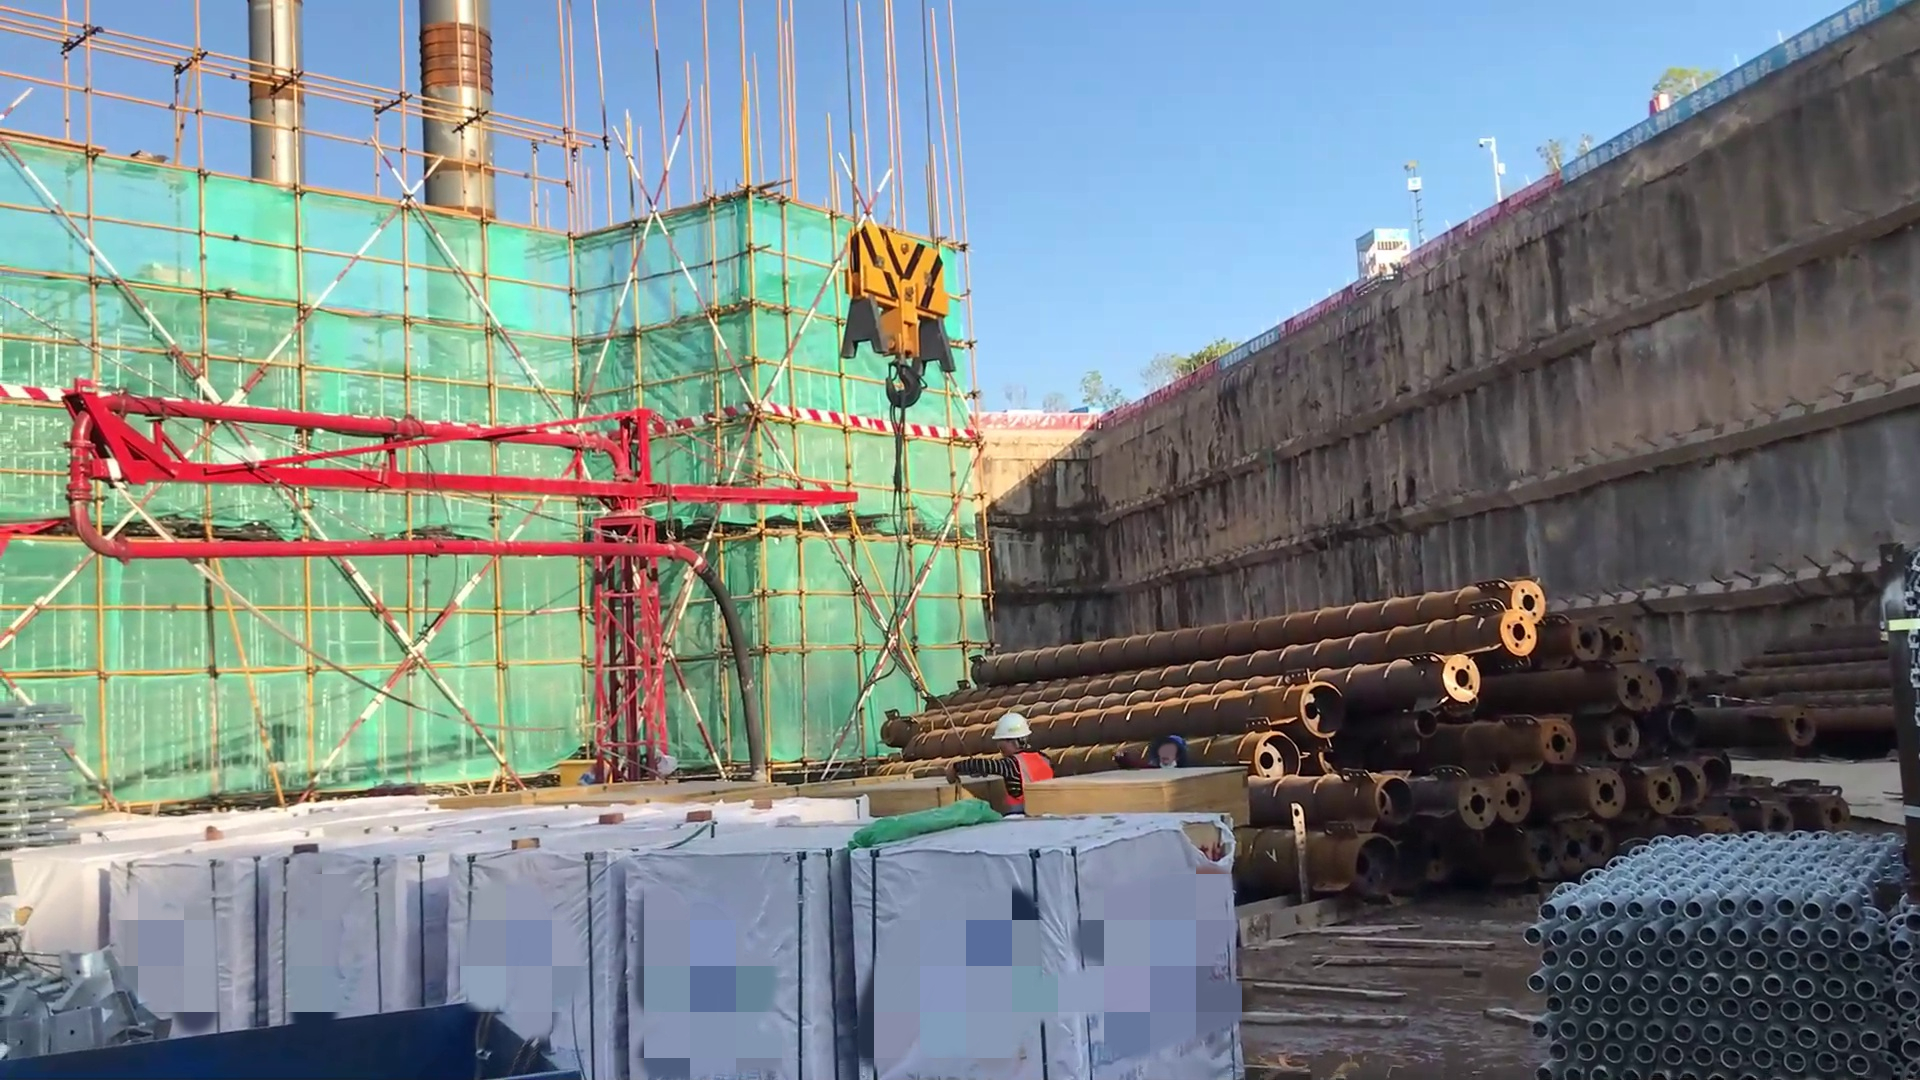board: (1022, 759, 1258, 862)
ebox: (541, 756, 619, 791)
helmet: (993, 713, 1040, 766)
hook: (813, 195, 995, 510)
hopper: (15, 984, 547, 1080)
person: (904, 709, 1066, 830), (1141, 738, 1185, 789)
scaffold: (1527, 816, 1920, 1077), (1, 687, 112, 869)
slogan: (1568, 1, 1881, 194), (1216, 320, 1288, 382)
vest: (990, 752, 1062, 813)
